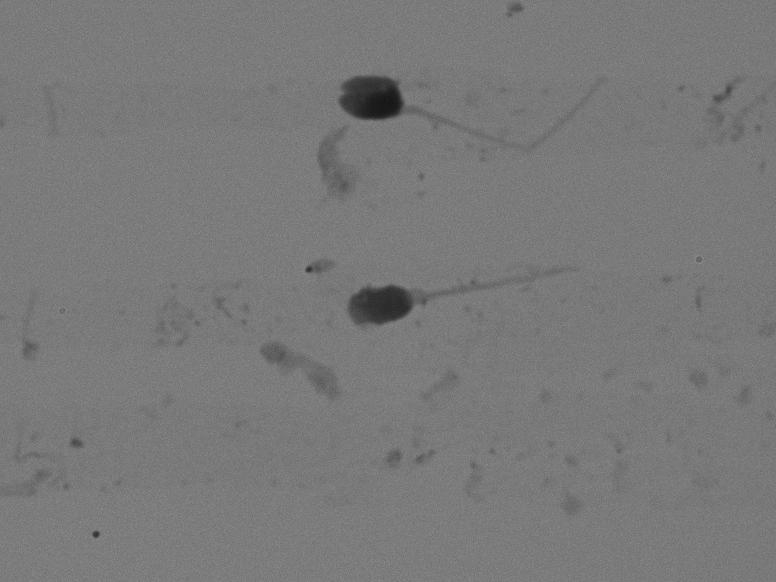Abnormal: (323, 215, 637, 361), (309, 41, 630, 174)
